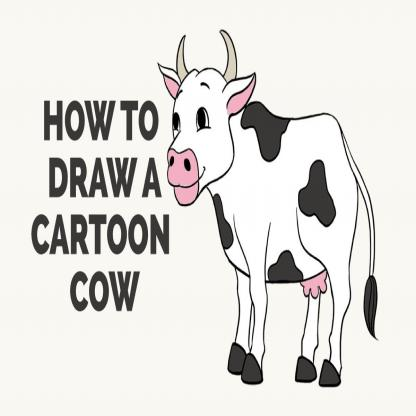cow: (158, 30, 378, 387)
